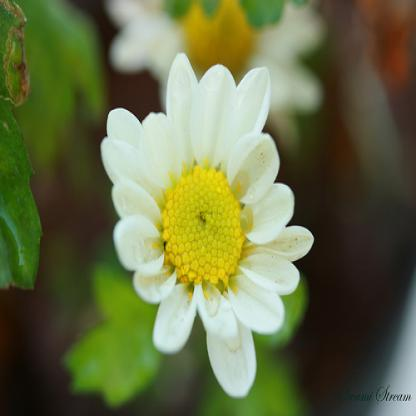ASTER: (72, 58, 340, 416)
